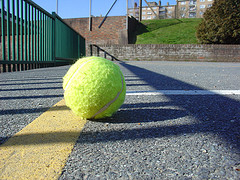tennis ball: (60, 54, 126, 120)
